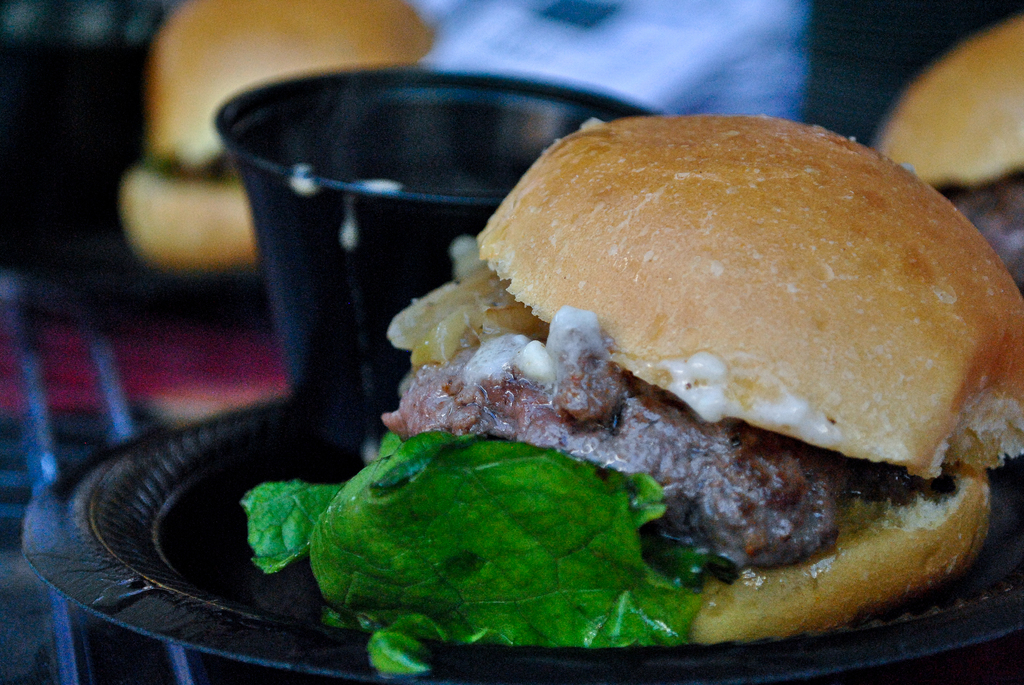Hamburger: (241, 115, 1023, 677), (881, 10, 1023, 285)
